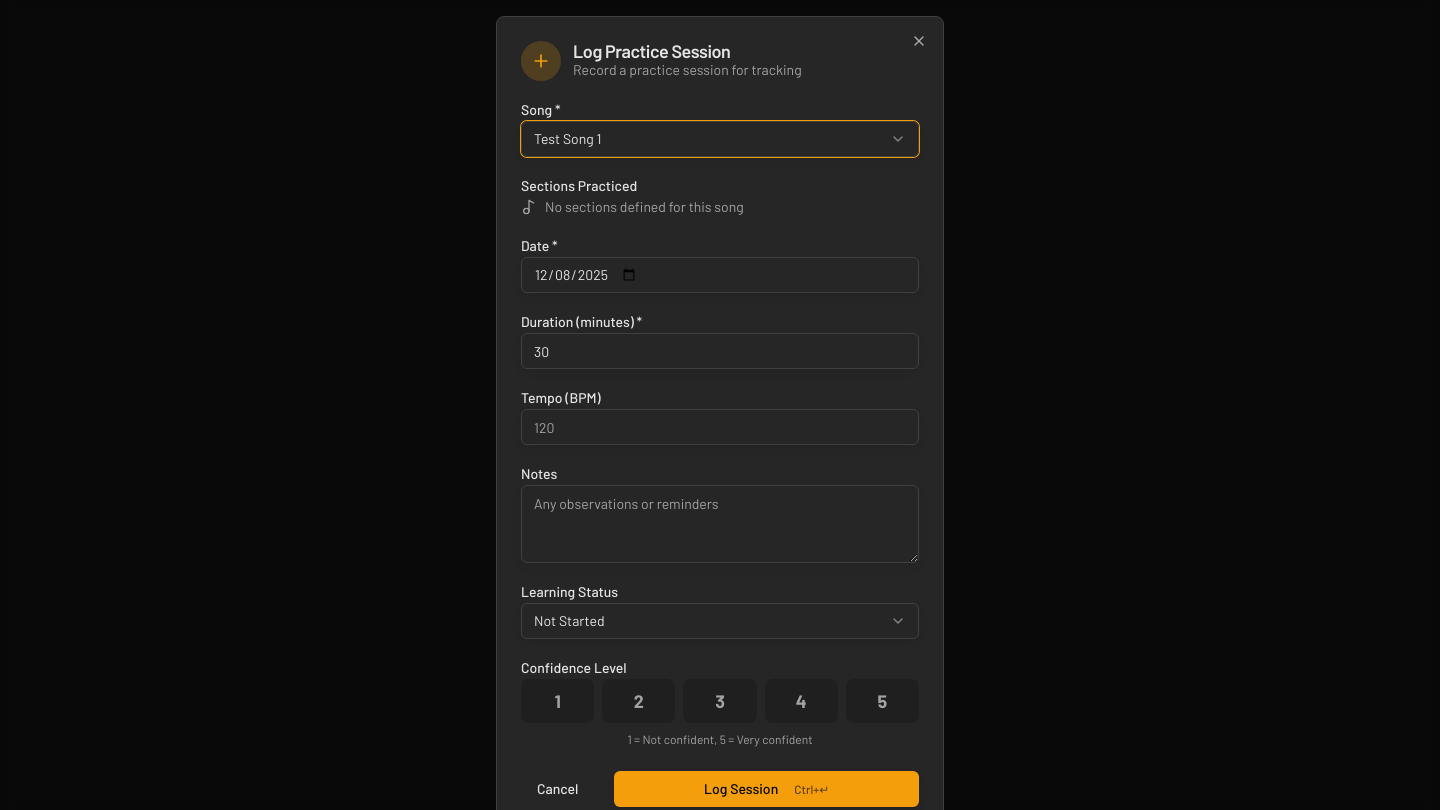
LogPracticeModal › successful submission › should show generic error message when submission fails without error message
Step 1. Click the button "Log Session Ctrl+↵" → [767, 789], box [614,771,919,807]
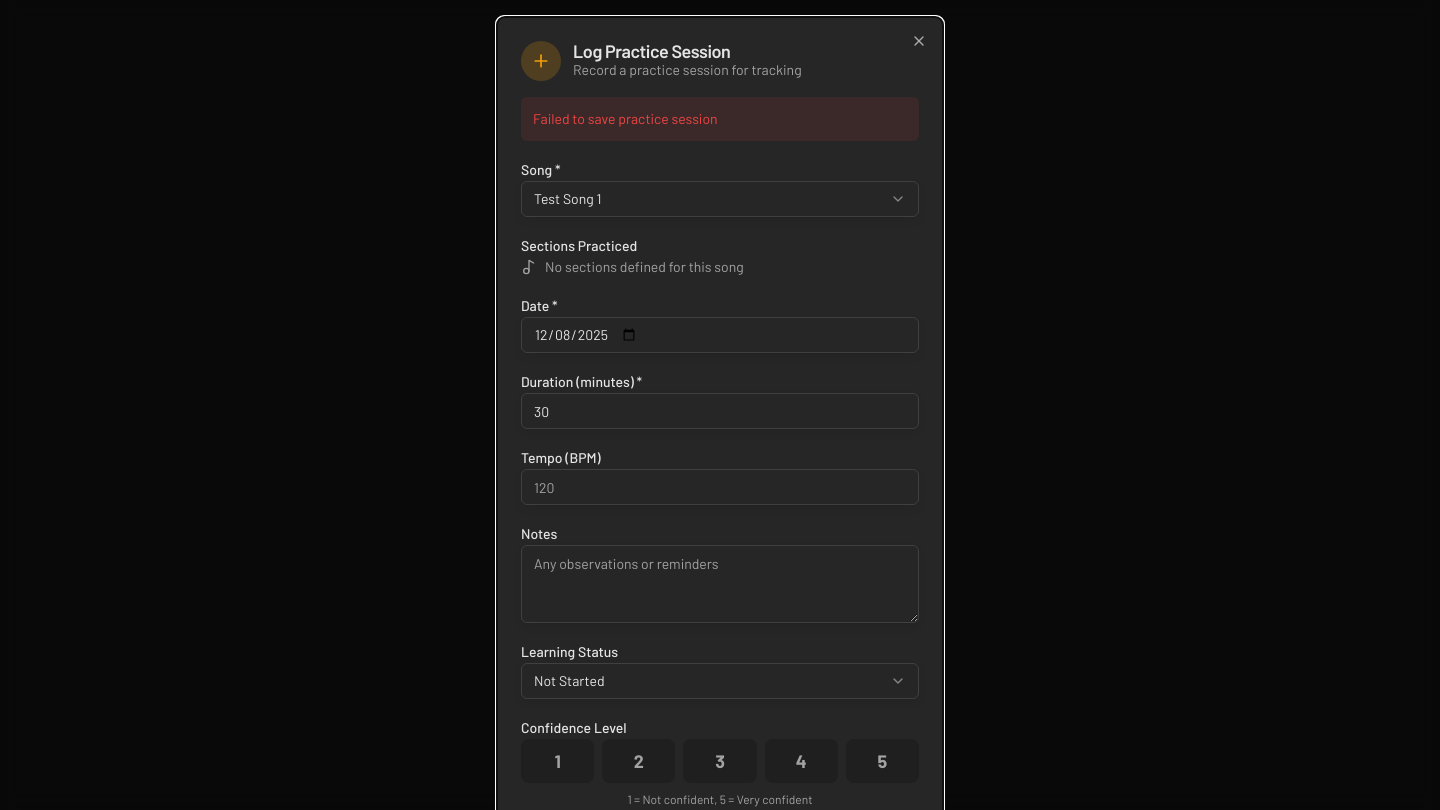
Now the text "Failed to save practice session" is shown, box [521,97,919,141]
